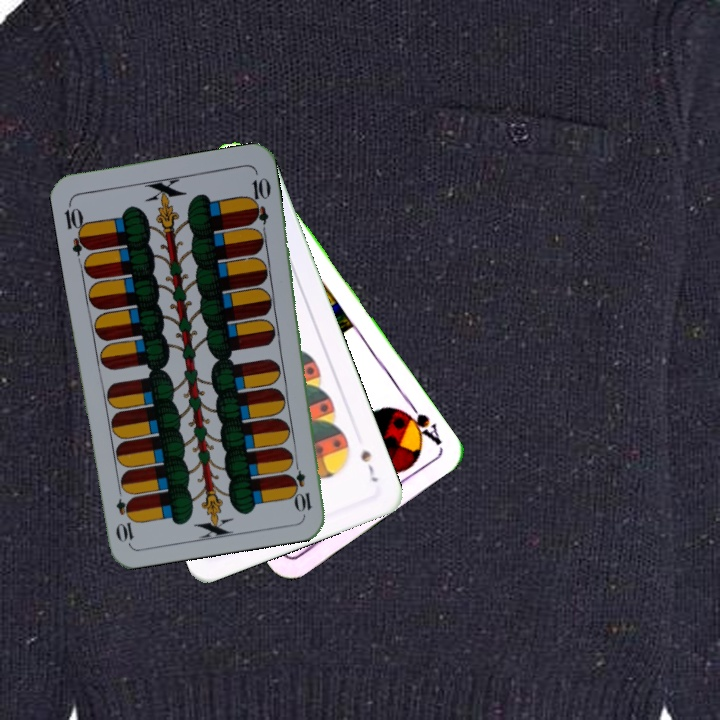E10: (60, 198, 93, 257), (288, 455, 314, 515)
S7: (356, 445, 381, 485)
SA: (395, 396, 445, 448)
